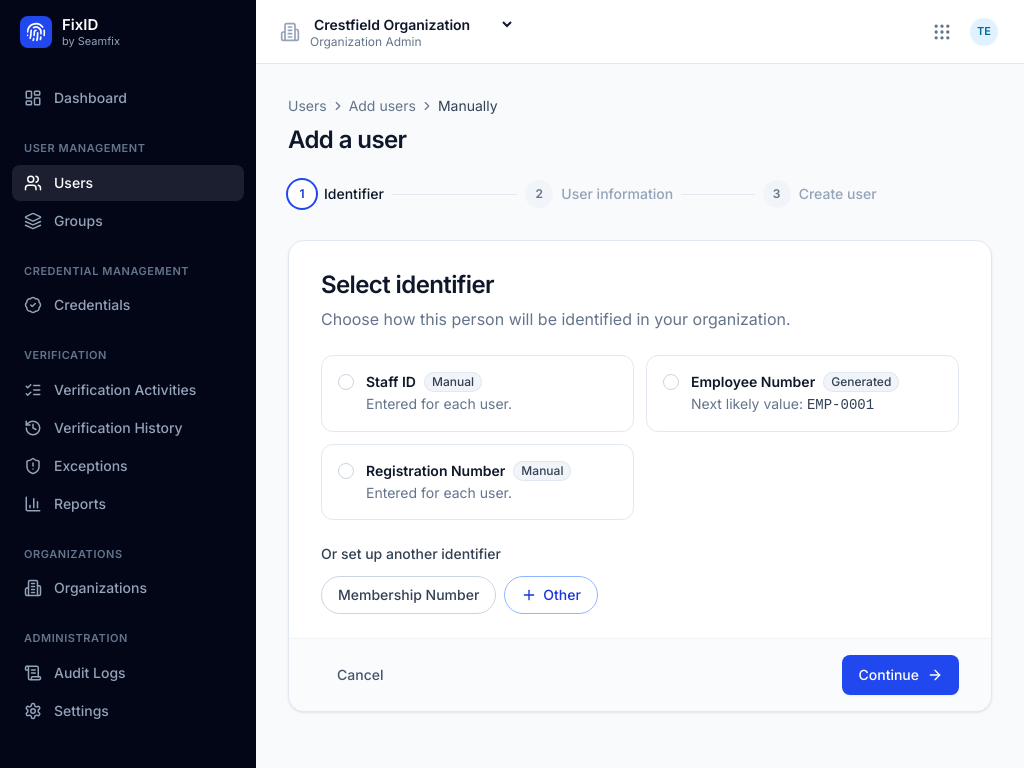
Test case: identifier selection › shows saved identifiers as cards, hides them from suggestions, and offers + Other only
Expected: the radio button labelled "Staff ID Manual Entered for each user." is shown, [321, 355, 634, 432]
Expected: the button "Membership Number" is shown, [321, 576, 496, 614]
Click the radio button labelled "Employee Number Generated Next likely value: EMP-0001" at {"x": 802, "y": 394}, box [646, 355, 959, 432]
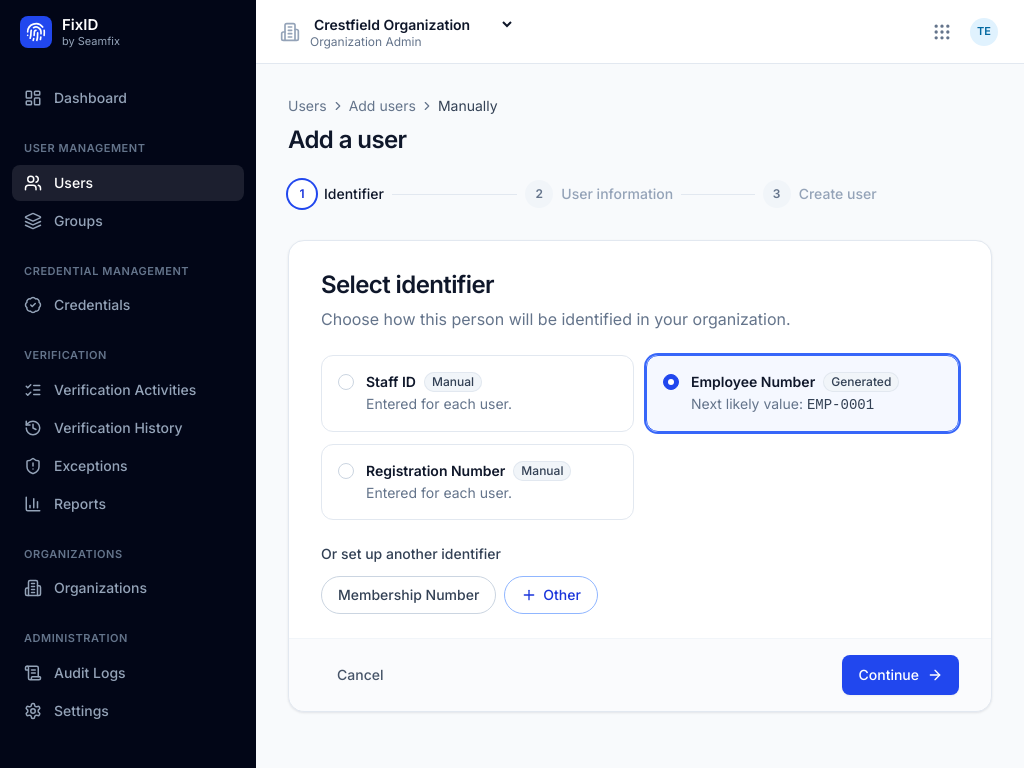
Now the radio button labelled "Employee Number Generated Next likely value: EMP-0001" is checked, box [646, 355, 959, 432]
Click the button "Other" at {"x": 551, "y": 595}, box [504, 576, 598, 614]
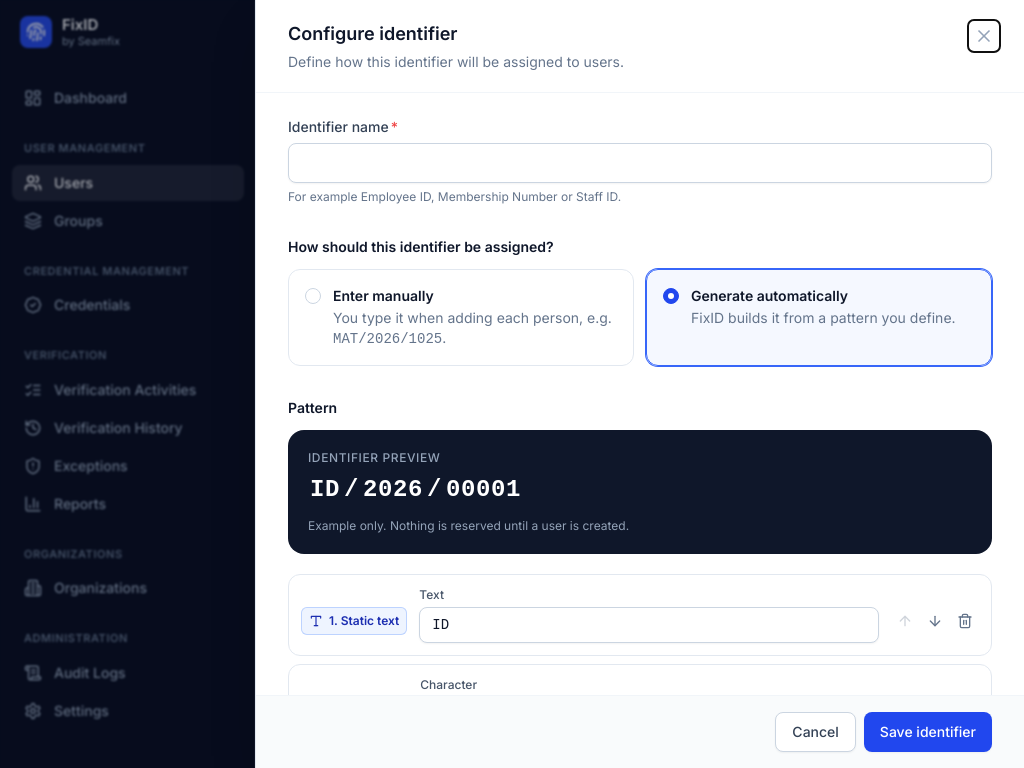
Now the field labelled "Identifier name*" is empty, box [288, 143, 992, 183]
